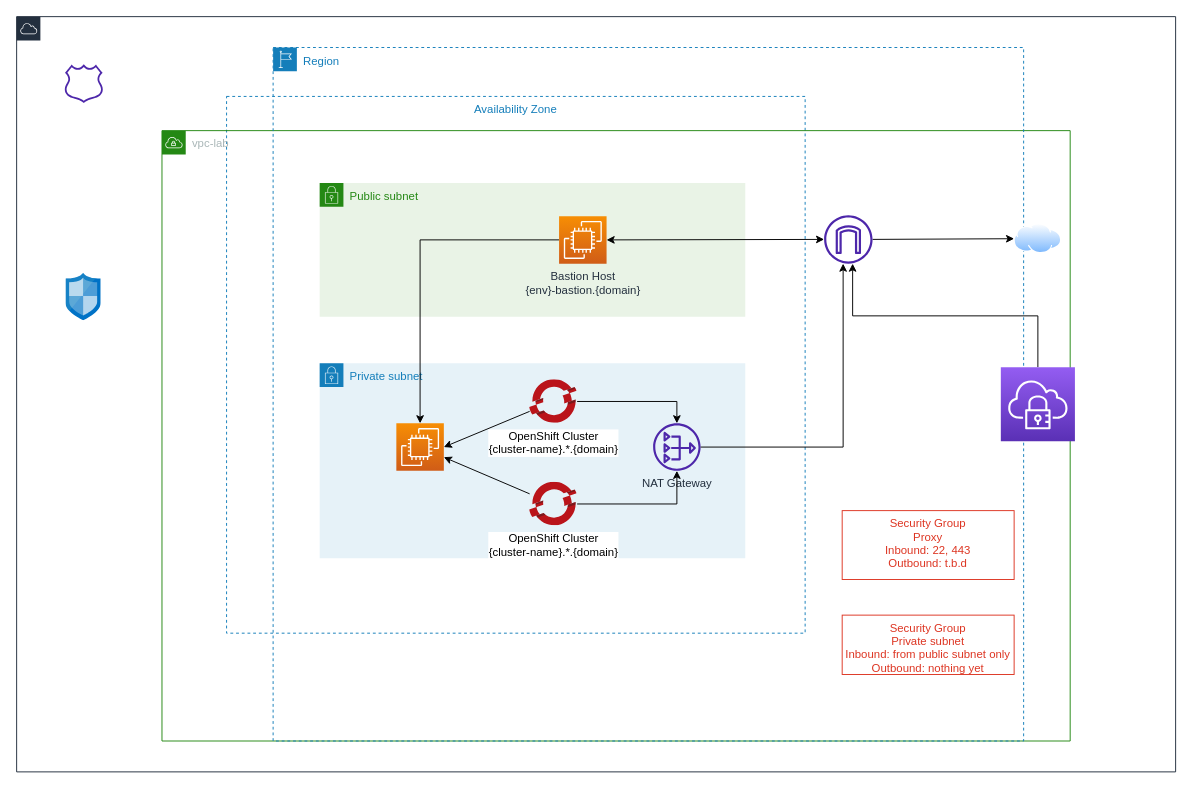
The diagram is 1192 pixels wide and 789 high, and some of its shapes have lost their labels. Here are the shapes that lost their labels. From the top down, the centre of each, then its label:
At (83,83): "{env}-bastion.{domain} {env}-cluster.{domain}".
At (848,239): "Internet Gateway".
At (1037,238): "Internet".
At (1037,403): "Client VPN".
At (419,446): "Quay Registry {env}-registry.{domain)".
